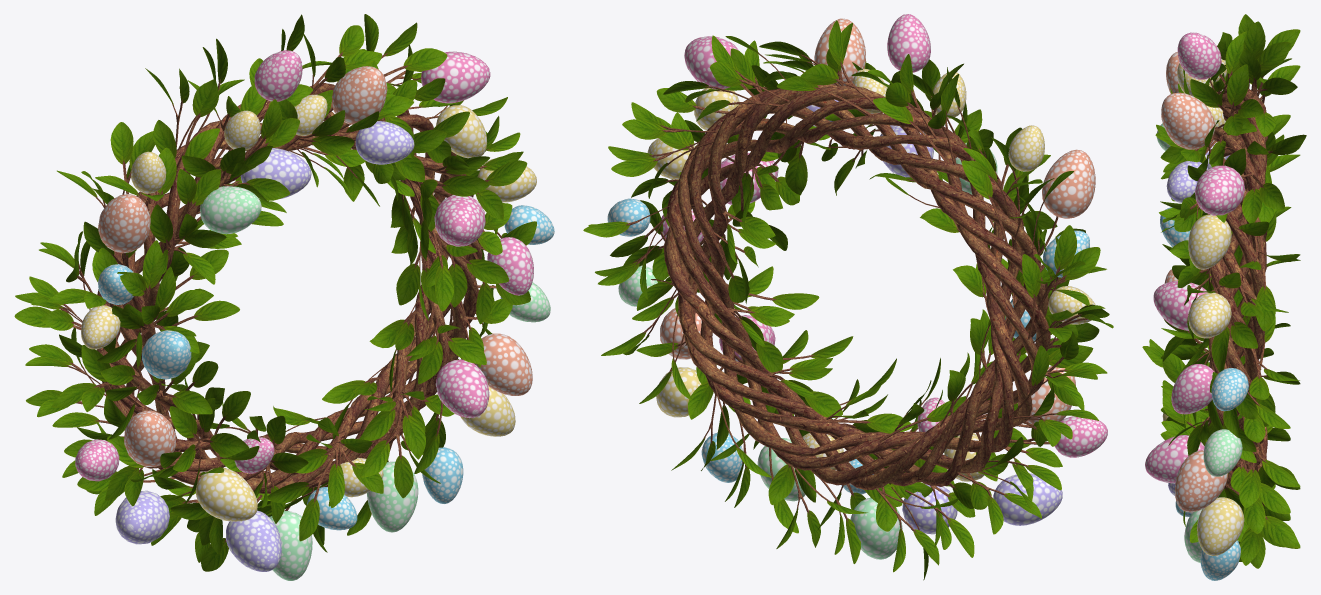
File: EasterEggDoorWreath.fbx
3 views of the same model, side by side, from view 1: azimuth 30°, elevation 25°; view 2: azimuth 150°, elevation 25°; view 3: azimuth 270°, elevation 25° (orthographic). The views are drawn at different scales.
Parts seen in each view (by area): view 1: Egg01.005, Cylinder, Plane.003, Plane.014, Plane.002, Plane.005, Plane.012, Plane.006, Plane.009, Plane.013, Plane.001, Plane.004 (+4 smaller); view 2: Cylinder, Egg01.005, Plane.006, Plane.008, Plane.007, Plane.010, Plane.009, Plane.014, Plane.011, Plane.003, Plane.005, Plane.012 (+4 smaller); view 3: Egg01.005, Cylinder, Plane.007, Plane.004, Plane.008, Plane.005, Plane.006, Plane.003, Plane.009, Plane.011, Plane.012, Plane.002 (+4 smaller).
Part boxes in pixels (box(x1,y1,x2,y2)): Egg01.005: box(75, 50, 554, 580); Cylinder: box(96, 83, 482, 493); Plane.003: box(145, 38, 299, 226); Plane.014: box(25, 310, 218, 440); Plane.002: box(57, 122, 241, 290); Plane.005: box(336, 14, 469, 206); Plane.012: box(62, 378, 250, 515); Plane.006: box(384, 80, 527, 260); Plane.009: box(322, 367, 454, 498); Plane.013: box(29, 231, 239, 365); Plane.001: box(14, 241, 239, 363); Plane.004: box(249, 14, 392, 197); Cylinder: box(663, 84, 1050, 489); Egg01.005: box(607, 14, 1107, 559); Plane.006: box(608, 65, 799, 233); Plane.008: box(601, 232, 819, 403); Plane.007: box(583, 178, 787, 302); Plane.010: box(768, 358, 917, 563); Plane.009: box(671, 330, 853, 507); Plane.014: box(970, 305, 1107, 446); Plane.011: box(876, 358, 1017, 580); Plane.003: box(869, 54, 993, 208); Plane.005: box(663, 35, 837, 195); Plane.012: box(940, 352, 1062, 534); Egg01.005: box(1145, 32, 1248, 580); Cylinder: box(1208, 88, 1267, 495); Plane.007: box(1161, 316, 1299, 442); Plane.004: box(1156, 48, 1297, 201); Plane.008: box(1161, 341, 1300, 533); Plane.005: box(1160, 120, 1306, 235); Plane.006: box(1162, 163, 1300, 339); Plane.003: box(1155, 14, 1300, 172); Plane.009: box(1161, 394, 1300, 568); Plane.011: box(1142, 339, 1300, 489); Plane.012: box(1161, 274, 1300, 384); Plane.002: box(1161, 58, 1300, 179).
Bounding box in the file's own units: 448 × 447 × 130.
